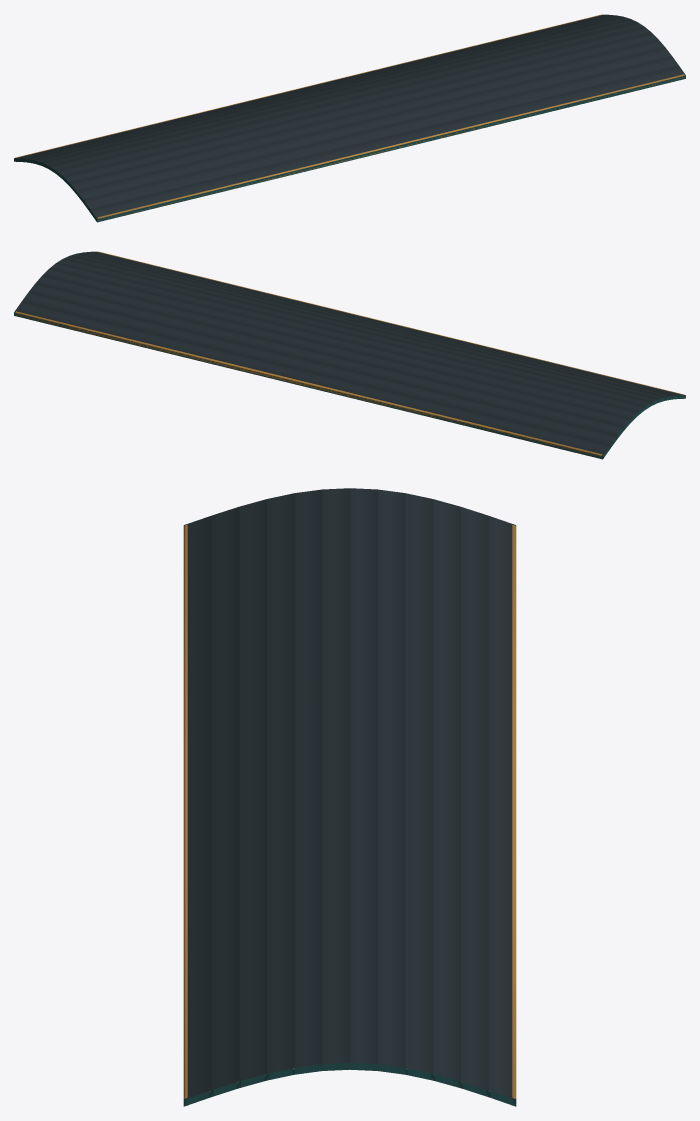
The model's file is SM_CarriageRoof.fbx.
3 renders of one model, top to bottom at view 1: azimuth 30°, elevation 25°; view 2: azimuth 150°, elevation 25°; view 3: azimuth 270°, elevation 25°, orthographic. The views are drawn at different scales.
Visible parts, largest first — view 1: SM_CarriageRoof; view 2: SM_CarriageRoof; view 3: SM_CarriageRoof.
Part boxes in pixels (bbox=[...]): SM_CarriageRoof: bbox=[14, 14, 685, 222]; SM_CarriageRoof: bbox=[14, 251, 685, 459]; SM_CarriageRoof: bbox=[183, 488, 516, 1106].
Bounding box in the file's own units: 900 × 220 × 32.
Materials: 1 (1 with a texture image).
